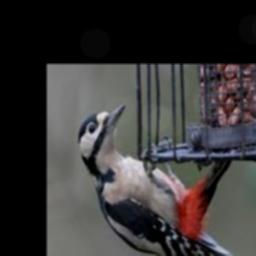Woodpecker: (78, 104, 234, 256)
